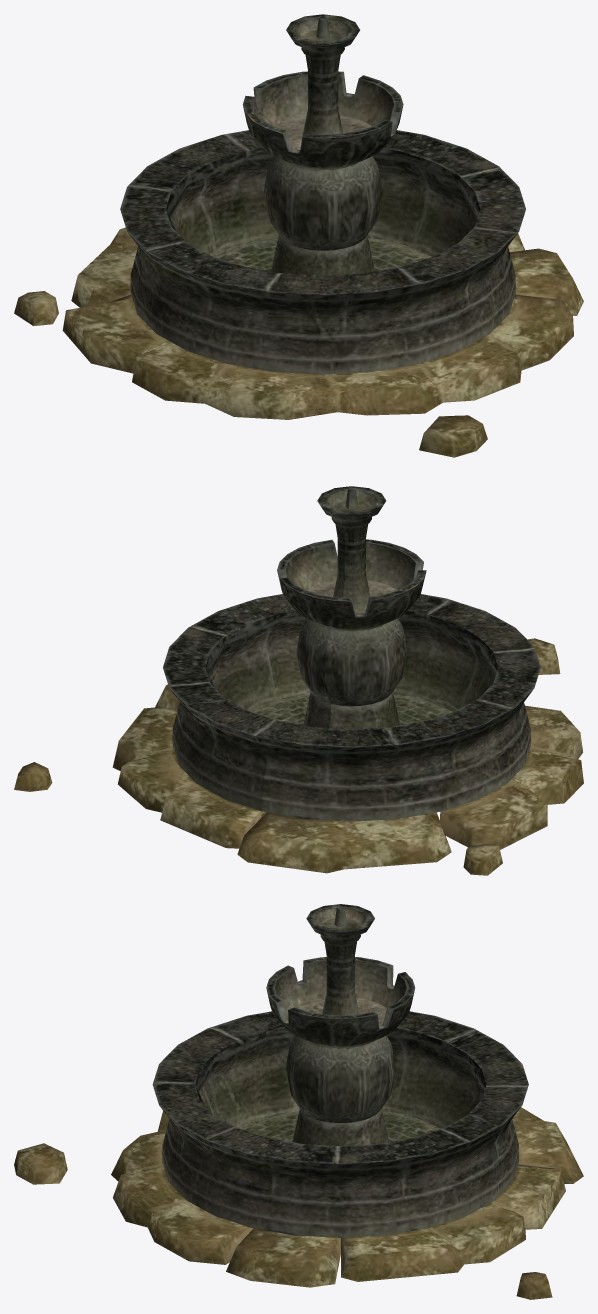
The model's file is Stone_Fountain-transformed.glb.
3 views of the same model, one above another, from view 1: azimuth 30°, elevation 25°; view 2: azimuth 150°, elevation 25°; view 3: azimuth 270°, elevation 25° (orthographic). The views are drawn at different scales.
Parts seen in each view (by area): view 1: default; view 2: default; view 3: default.
Boxes of the visible parts, bbox=[...] form: default: bbox=[14, 14, 583, 457]; default: bbox=[14, 486, 583, 875]; default: bbox=[14, 904, 583, 1299].
Size of the model in its own units: 5.64 by 3.35 by 6.24.
1 material, 1 textured.
